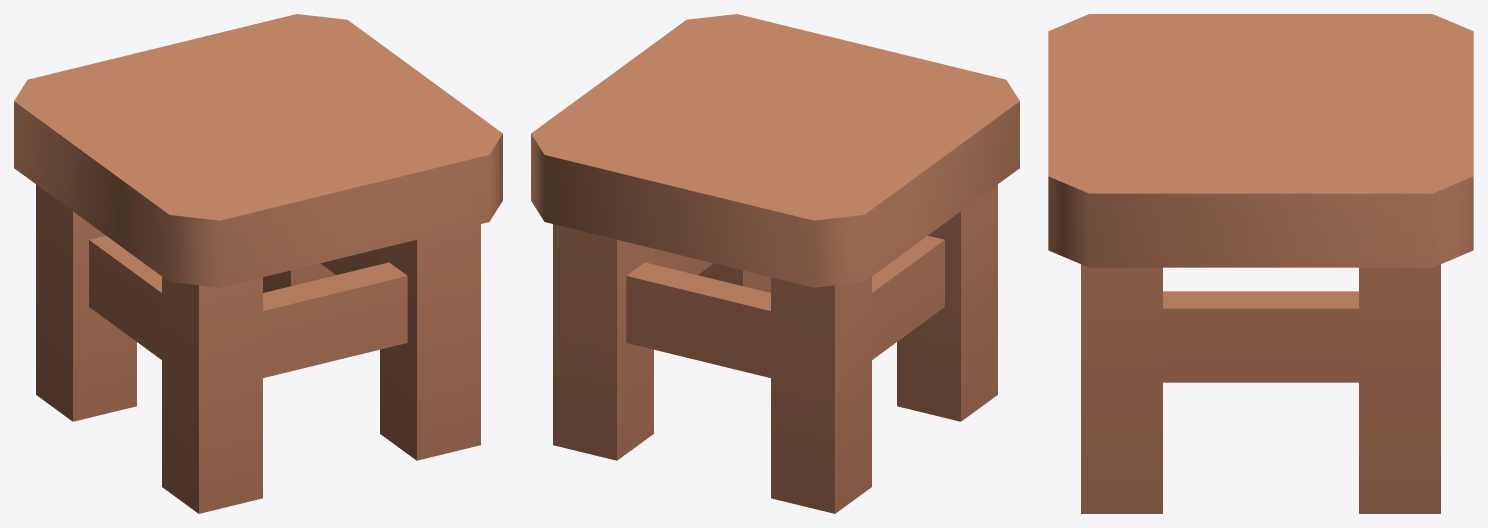
File: stall-stool.glb
3 renders of one model, left to right at view 1: azimuth 30°, elevation 25°; view 2: azimuth 150°, elevation 25°; view 3: azimuth 270°, elevation 25°, orthographic. The views are drawn at different scales.
Parts seen in each view (by area): view 1: stall-stool; view 2: stall-stool; view 3: stall-stool.
Part boxes in pixels (left/top/right/bottom): stall-stool: left=14, top=14, right=502, bottom=513; stall-stool: left=531, top=14, right=1019, bottom=513; stall-stool: left=1048, top=14, right=1473, bottom=513.
Bounding box in the file's own units: 0.26 × 0.2255 × 0.26.
Materials: 1 (1 with a texture image).
